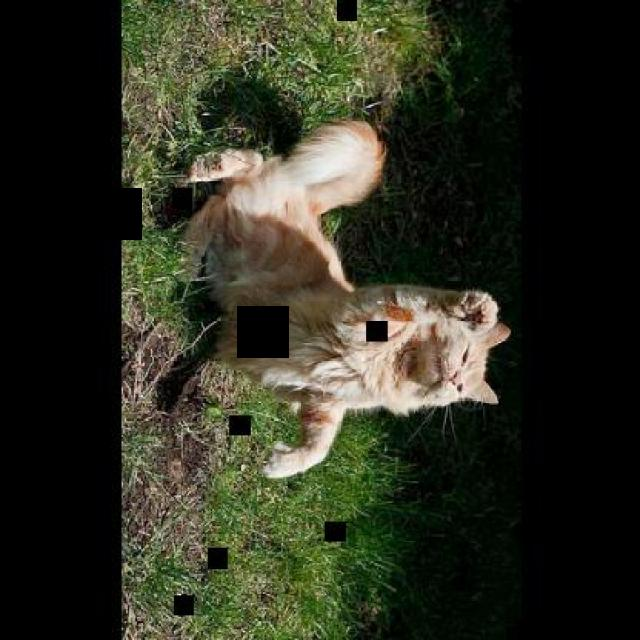unauthorized: (175, 117, 511, 480)
